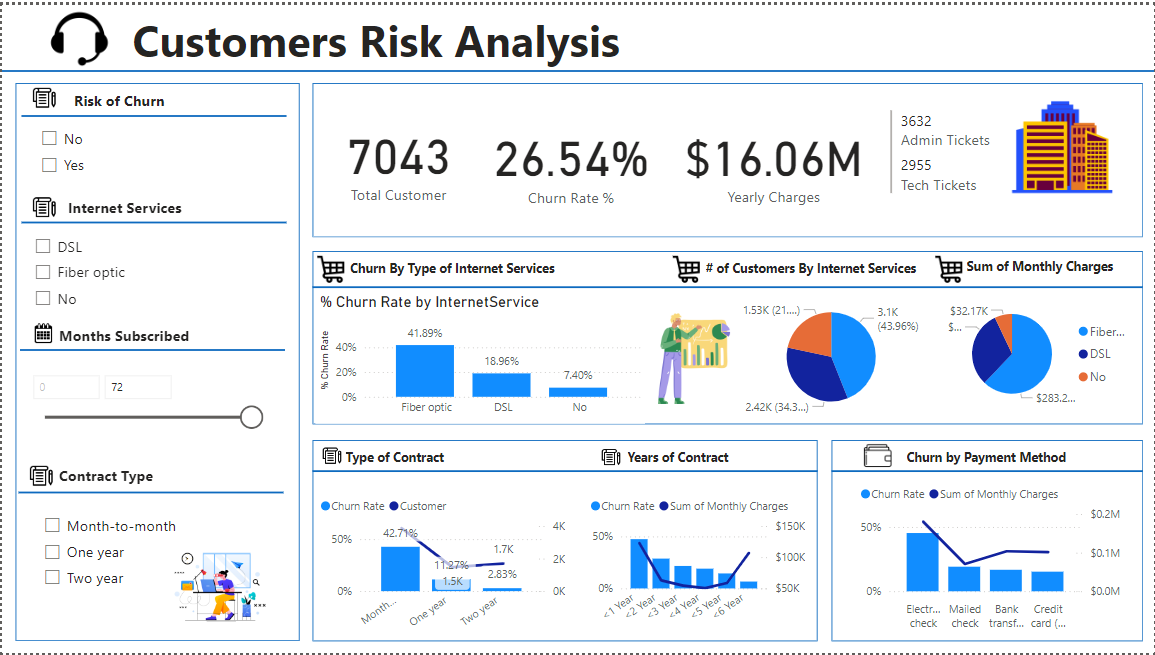

The page's visual inventory and layout, read from the dashboard file:
{"tool":"powerbi","page":{"name":"Page 3","canvas":[1280,720],"ordinal":2},"visuals":[{"type":"shape","box":[14.6,87.4,315.7,620.2],"z":0},{"type":"shape","box":[344.9,87.4,923,171.6],"z":1000},{"type":"shape","box":[344.9,273.6,923,192.7],"z":2000},{"type":"shape","box":[345,483.8,561.2,223.8],"z":3000},{"type":"shape","box":[921.2,483.8,346.2,223.8],"z":4000},{"type":"slicer","fields":{"Values":["Churn.Churn"]},"box":[32.2,127.8,276.7,80],"z":5000},{"type":"slicer","fields":{"Values":["Churn.InternetService"]},"box":[25.6,248.9,276.7,96.7],"z":6000},{"type":"slicer","fields":{"Values":["Churn.tenure"]},"box":[22.2,402.2,276.7,97.8],"z":7000},{"type":"slicer","fields":{"Values":["Churn.Contract"]},"box":[34.4,557.8,276.7,136.7],"z":8000},{"type":"card","fields":{"Values":["CountNonNull(Churn.customerID)"]},"box":[362.7,103.6,153.8,137.6],"z":9000},{"type":"card","fields":{"Values":["Churn.% Churn Rate"]},"box":[532.7,111.7,197.5,126.3],"z":10000},{"type":"card","fields":{"Values":["Sum(Churn.TotalCharges)"]},"box":[732.2,112.2,251.1,125.6],"z":11000},{"type":"multiRowCard","fields":{"Values":["Sum(Churn.numAdminTickets)","Sum(Churn.numTechTickets)"]},"box":[982.2,112.2,231.1,128.9],"z":12000},{"type":"columnChart","fields":{"Y":["Churn.% Churn Rate"],"Category":["Churn.InternetService"]},"box":[348.8,320,366.2,145],"z":13000},{"type":"pieChart","fields":{"Y":["CountNonNull(Churn.customerID)"],"Category":["Churn.InternetService"]},"box":[806.2,320,228.8,141.2],"z":14000},{"type":"pieChart","fields":{"Category":["Churn.InternetService"],"Y":["Sum(Churn.MonthlyCharges)"]},"box":[1042.5,316.2,221.2,141.2],"z":15000},{"type":"lineStackedColumnComboChart","fields":{"Y":["Churn.% Churn Rate"],"Y2":["CountNonNull(Churn.customerID)"],"Category":["Churn.Contract"]},"box":[348.8,536.2,282.5,166.2],"z":16000},{"type":"lineStackedColumnComboChart","fields":{"Y":["Churn.% Churn Rate"],"Y2":["Sum(Churn.MonthlyCharges)"],"Category":["Churn.Tenure (In years )"]},"box":[647.5,536.2,248.8,161.2],"z":17000},{"type":"lineStackedColumnComboChart","fields":{"Y":["Churn.% Churn Rate"],"Y2":["Sum(Churn.MonthlyCharges)"],"Category":["Churn.PaymentMethod"]},"box":[947.5,523.8,298.8,178.8],"z":18000},{"type":"textbox","box":[140,0,575,75],"z":19000},{"type":"image","box":[31.7,0,108.3,75],"z":20000},{"type":"shape","box":[0,65,1280,16.7],"z":21000},{"type":"textbox","box":[75.6,90,128.9,33.3],"z":22000},{"type":"shape","box":[22.2,116.7,294.4,13.3],"z":23000},{"type":"image","box":[25.6,85.6,43.3,35.6],"z":24000},{"type":"textbox","box":[67.8,207.8,181.1,31.1],"z":25000},{"type":"shape","box":[21.1,235.6,294.4,13.3],"z":26000},{"type":"image","box":[25.6,206.7,43.3,35.6],"z":27000},{"type":"textbox","box":[58.9,347.8,203.3,37.8],"z":28000},{"type":"shape","box":[20,376.7,294.4,13.3],"z":29000},{"type":"textbox","box":[57.8,506.7,203.3,37.8],"z":30000},{"type":"shape","box":[18.9,534.4,294.4,13.3],"z":31000},{"type":"image","box":[21.1,505.6,43.3,35.6],"z":32000},{"type":"image","box":[25.6,348.9,42.2,32.2],"z":33000},{"type":"image","box":[164.4,595.6,154.4,102.2],"z":34000},{"type":"image","box":[1097.8,92.2,158.9,132.2],"z":35000},{"type":"image","box":[712.5,332.5,111.2,118.8],"z":36000},{"type":"shape","box":[345,306.2,922.5,13.8],"z":37000},{"type":"textbox","box":[381.2,276.2,258.8,33.8],"z":38000},{"type":"image","box":[345,273.8,41.2,40],"z":39000},{"type":"textbox","box":[776.2,276.2,258.8,33.8],"z":40000},{"type":"image","box":[740,272.5,41.2,40],"z":41000},{"type":"textbox","box":[1066.2,275,186.2,33.8],"z":42000},{"type":"image","box":[1031.2,272.5,41.2,40],"z":43000},{"type":"textbox","box":[376.2,486.2,133.8,28.8],"z":44000},{"type":"shape","box":[345,511.2,561.2,12.5],"z":45000},{"type":"image","box":[347.5,485,36.2,31.2],"z":46000},{"type":"textbox","box":[690,486.2,167.5,28.8],"z":46001},{"type":"image","box":[657.5,486.2,36.2,31.2],"z":46002},{"type":"shape","box":[921.2,511.2,346.2,12.5],"z":46003},{"type":"textbox","box":[1000,486.2,222.5,28.8],"z":46004},{"type":"image","box":[947.5,480,48.8,41.2],"z":46005}]}

Visuals, with their boxes in screenshot pixels (x1, y1, x2, y2), scaled from the page's 1280x720 canvas onto the 1155x655 screenshot:
shape: <box>13,80,298,644</box>
shape: <box>311,80,1144,236</box>
shape: <box>311,249,1144,424</box>
shape: <box>311,440,818,644</box>
shape: <box>831,440,1144,644</box>
slicer - Churn.Churn: <box>29,116,279,189</box>
slicer - Churn.InternetService: <box>23,226,273,314</box>
slicer - Churn.tenure: <box>20,366,270,455</box>
slicer - Churn.Contract: <box>31,507,281,632</box>
card - CountNonNull(Churn.customerID): <box>327,94,466,219</box>
card - Churn.% Churn Rate: <box>481,102,659,217</box>
card - Sum(Churn.TotalCharges): <box>661,102,887,216</box>
multiRowCard - Sum(Churn.numAdminTickets) x Sum(Churn.numTechTickets): <box>886,102,1095,219</box>
columnChart - Churn.% Churn Rate x Churn.InternetService: <box>315,291,645,423</box>
pieChart - CountNonNull(Churn.customerID) x Churn.InternetService: <box>727,291,934,420</box>
pieChart - Churn.InternetService x Sum(Churn.MonthlyCharges): <box>941,288,1140,416</box>
lineStackedColumnComboChart - Churn.% Churn Rate x CountNonNull(Churn.customerID): <box>315,488,570,639</box>
lineStackedColumnComboChart - Churn.% Churn Rate x Sum(Churn.MonthlyCharges): <box>584,488,809,634</box>
lineStackedColumnComboChart - Churn.% Churn Rate x Sum(Churn.MonthlyCharges): <box>855,477,1125,639</box>
textbox: <box>126,0,645,68</box>
image: <box>29,0,126,68</box>
shape: <box>0,59,1154,74</box>
textbox: <box>68,82,185,112</box>
shape: <box>20,106,286,118</box>
image: <box>23,78,62,110</box>
textbox: <box>61,189,225,217</box>
shape: <box>19,214,285,226</box>
image: <box>23,188,62,220</box>
textbox: <box>53,316,237,351</box>
shape: <box>18,343,284,355</box>
textbox: <box>52,461,236,495</box>
shape: <box>17,486,283,498</box>
image: <box>19,460,58,492</box>
image: <box>23,317,61,347</box>
image: <box>148,542,288,635</box>
image: <box>991,84,1134,204</box>
image: <box>643,302,743,411</box>
shape: <box>311,279,1144,291</box>
textbox: <box>344,251,578,282</box>
image: <box>311,249,348,285</box>
textbox: <box>700,251,934,282</box>
image: <box>668,248,705,284</box>
textbox: <box>962,250,1130,281</box>
image: <box>930,248,968,284</box>
textbox: <box>339,442,460,469</box>
shape: <box>311,465,818,476</box>
image: <box>314,441,346,470</box>
textbox: <box>623,442,774,469</box>
image: <box>593,442,626,471</box>
shape: <box>831,465,1144,476</box>
textbox: <box>902,442,1103,469</box>
image: <box>855,437,899,474</box>
